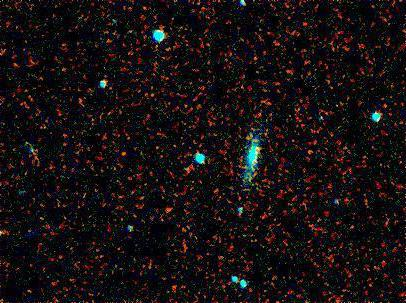star: (201, 177, 231, 207)
